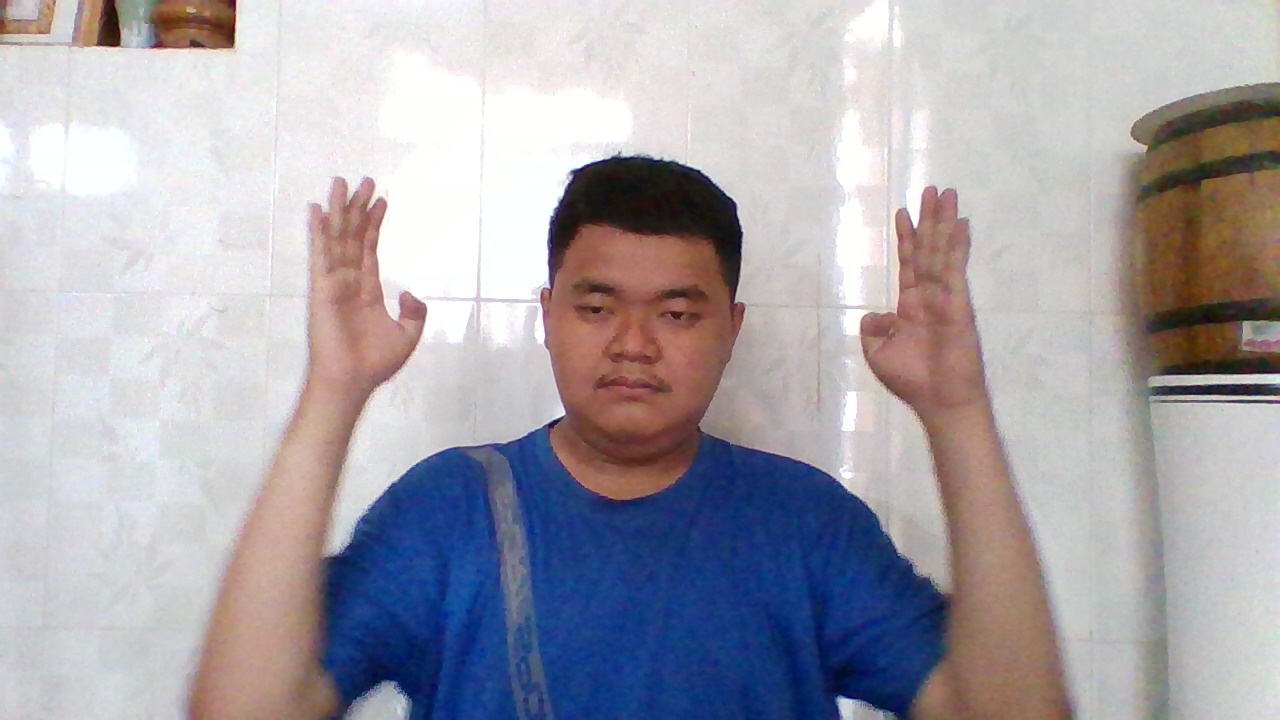B: (299, 166, 436, 399), (850, 176, 979, 418)
